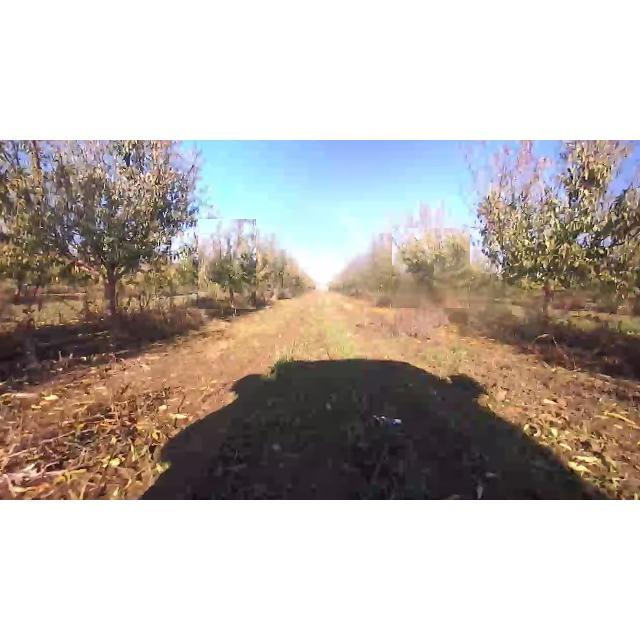direk: (0, 142, 212, 338), (468, 140, 640, 326), (392, 228, 470, 308), (198, 219, 256, 309)
